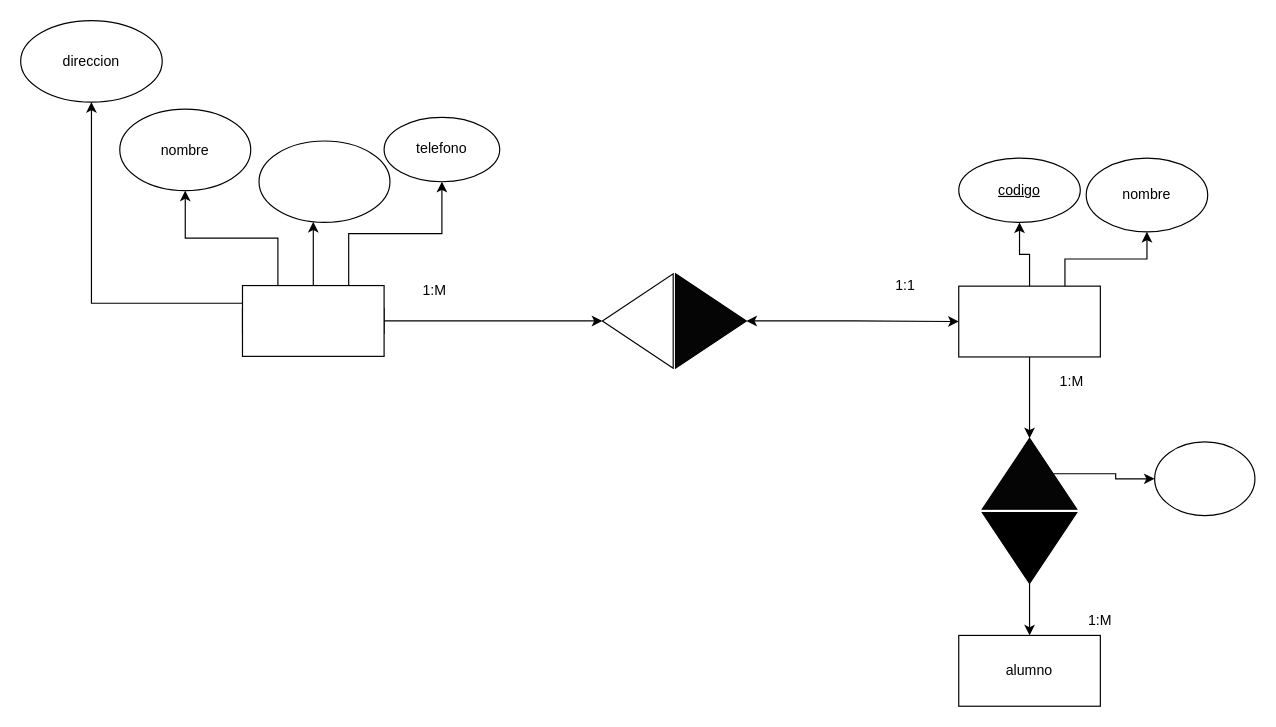
Image size: 1276x727. Some labels were removed from this diagram. Here are the shapes that lost their labels. From the top down, the centre of each, then its label:
At point 324,181: "dni".
At point 312,320: "profesor".
At point 1029,321: "modulo".
At point 1204,478: "fecha de matriculacion".
